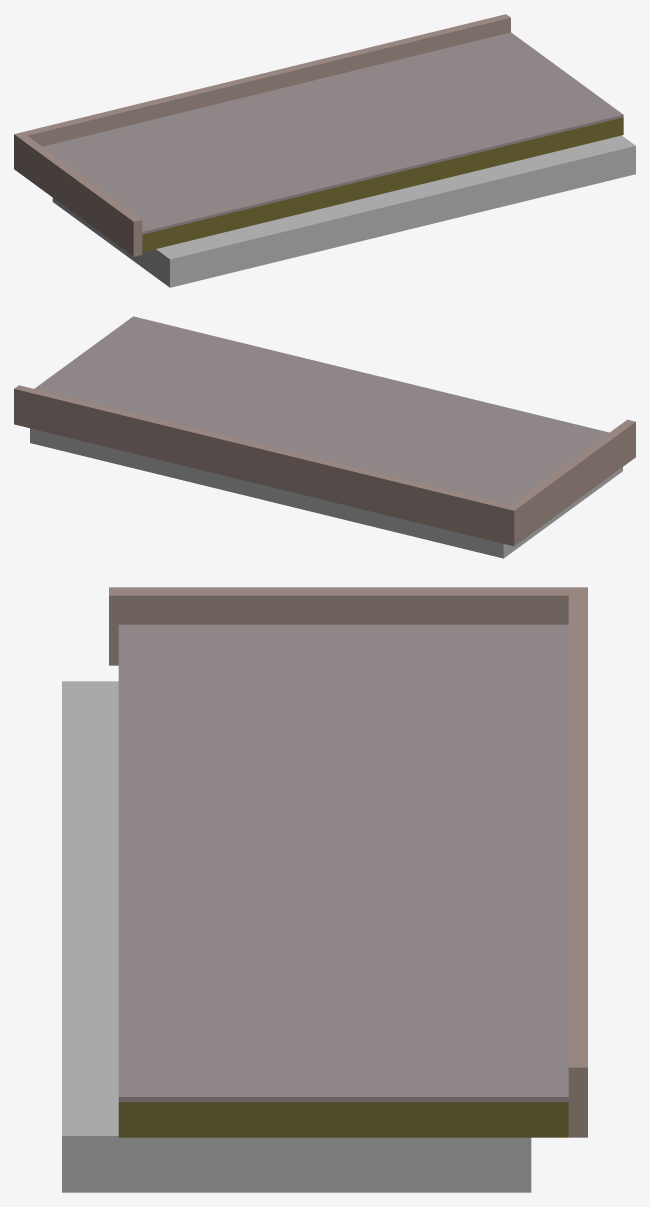
3 renders of one model, top to bottom at view 1: azimuth 30°, elevation 25°; view 2: azimuth 150°, elevation 25°; view 3: azimuth 270°, elevation 25°, orthographic. The views are drawn at different scales.
Visible parts, largest first — view 1: [3333778]47_Grindlaag_30, [3333765]23_Generic_floor_320, [3333774]21_metselwerk_oranje_100, [3333760]27_isolatie_dakplaten_afschot_200, [3333775]21_metselwerk_oranje_100; view 2: [3333778]47_Grindlaag_30, [3333774]21_metselwerk_oranje_100, [3333765]23_Generic_floor_320, [3333775]21_metselwerk_oranje_100; view 3: [3333778]47_Grindlaag_30, [3333765]23_Generic_floor_320, [3333775]21_metselwerk_oranje_100, [3333760]27_isolatie_dakplaten_afschot_200, [3333774]21_metselwerk_oranje_100.
Boxes of the visible parts, x1,y1,x2,y2 form: [3333778]47_Grindlaag_30: (43, 32, 623, 234); [3333765]23_Generic_floor_320: (52, 135, 635, 287); [3333774]21_metselwerk_oranje_100: (14, 14, 510, 172); [3333760]27_isolatie_dakplaten_afschot_200: (142, 117, 623, 252); [3333775]21_metselwerk_oranje_100: (19, 135, 142, 256); [3333778]47_Grindlaag_30: (34, 316, 609, 504); [3333774]21_metselwerk_oranje_100: (14, 385, 519, 546); [3333765]23_Generic_floor_320: (30, 428, 622, 558); [3333775]21_metselwerk_oranje_100: (511, 419, 635, 542); [3333778]47_Grindlaag_30: (118, 624, 568, 1102); [3333765]23_Generic_floor_320: (62, 681, 531, 1192); [3333775]21_metselwerk_oranje_100: (109, 587, 568, 665); [3333760]27_isolatie_dakplaten_afschot_200: (118, 1102, 568, 1137); [3333774]21_metselwerk_oranje_100: (568, 587, 587, 1137).
Bounding box in the file's own units: 5.81 × 0.7149 × 2.69.
